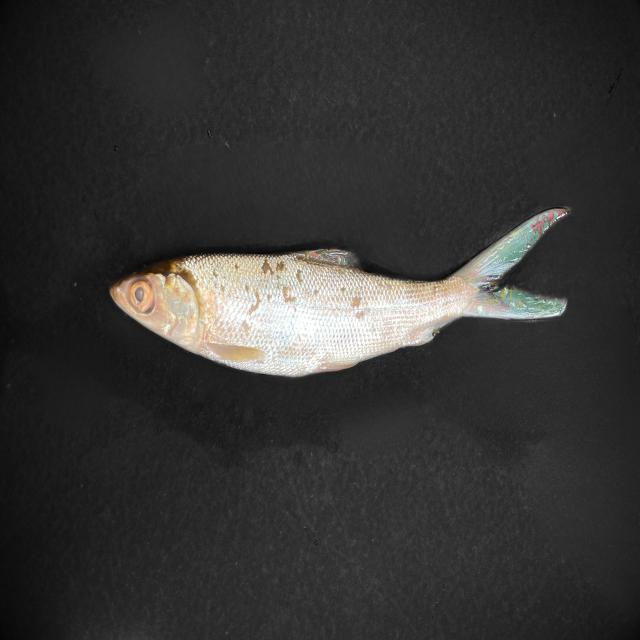560 g: (110, 208, 568, 378)
